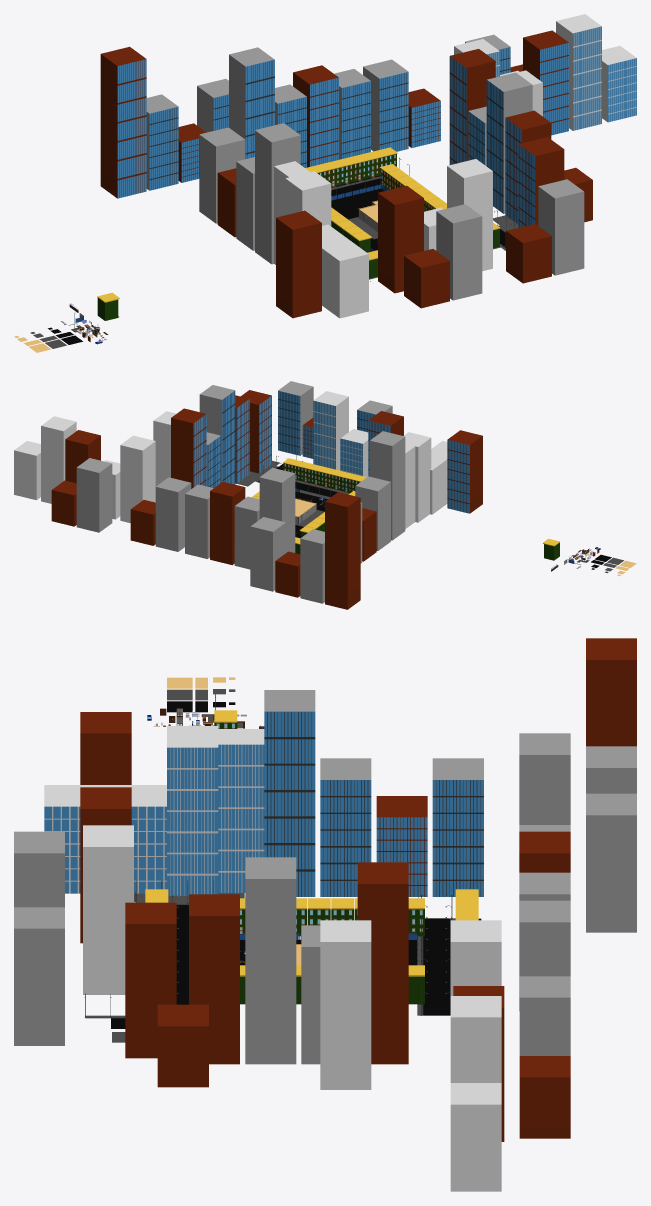
The model's file is mega_store_version_110524.fbx.
3 renders of one model, top to bottom at view 1: azimuth 30°, elevation 25°; view 2: azimuth 150°, elevation 25°; view 3: azimuth 270°, elevation 25°, orthographic. The views are drawn at different scales.
Parts seen in each view (by area): view 1: Cube.199, Cube.214, Cube.195, Cube.222, Cube.209, Cube.213, Cube.210, Cube.215, Cube.191, Cube.203, Cube.220, Cube.205 (+26 smaller); view 2: Cube.199, Cube.214, Cube.203, Cube.217, Cube.224, Cube.191, Cube.207, Cube.205, Cube.202, Cube.220, Cube.197, Cube.210 (+24 smaller); view 3: Cube.205, Cube.191, Cube.402, Cube.212, Cube.203, Cube.207, Cube.206, Cube.202, Cube.369, Cube.210, Cube.194, Cube.317 (+20 smaller).
Boxes of the visible parts, bbox=[...] form: Cube.199: bbox=[100, 46, 146, 198]; Cube.214: bbox=[276, 210, 321, 318]; Cube.195: bbox=[229, 47, 274, 159]; Cube.222: bbox=[556, 14, 601, 130]; Cube.209: bbox=[378, 185, 423, 293]; Cube.213: bbox=[322, 224, 368, 318]; Cube.210: bbox=[538, 179, 584, 275]; Cube.215: bbox=[436, 204, 482, 300]; Cube.191: bbox=[255, 123, 300, 264]; Cube.203: bbox=[449, 49, 495, 164]; Cube.220: bbox=[363, 59, 408, 151]; Cube.205: bbox=[486, 72, 532, 213]; Cube.199: bbox=[325, 492, 360, 609]; Cube.214: bbox=[447, 430, 482, 513]; Cube.203: bbox=[171, 408, 206, 488]; Cube.217: bbox=[120, 435, 155, 522]; Cube.224: bbox=[76, 458, 112, 532]; Cube.191: bbox=[369, 431, 405, 540]; Cube.207: bbox=[313, 391, 348, 470]; Cube.205: bbox=[199, 385, 235, 484]; Cube.202: bbox=[250, 517, 285, 591]; Cube.220: bbox=[155, 477, 191, 551]; Cube.197: bbox=[210, 481, 245, 565]; Cube.210: bbox=[278, 381, 313, 455]; Cube.205: bbox=[245, 857, 296, 1064]; Cube.191: bbox=[264, 690, 315, 896]; Cube.402: bbox=[320, 920, 371, 1089]; Cube.212: bbox=[167, 726, 218, 895]; Cube.203: bbox=[357, 862, 408, 1064]; Cube.207: bbox=[83, 825, 133, 994]; Cube.206: bbox=[189, 894, 239, 1064]; Cube.202: bbox=[586, 793, 636, 932]; Cube.369: bbox=[125, 902, 176, 1058]; Cube.210: bbox=[14, 907, 64, 1045]; Cube.194: bbox=[432, 758, 483, 896]; Cube.317: bbox=[218, 729, 264, 892].
Bounding box in the file's own units: 47643 × 8755 × 24385.
